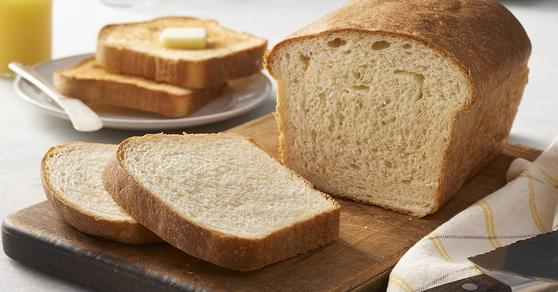white_bread: (320, 3, 519, 209)
